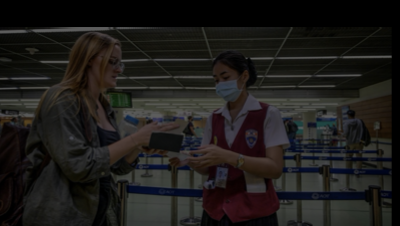with_mask: (213, 71, 244, 104)
without_mask: (92, 51, 123, 89)
